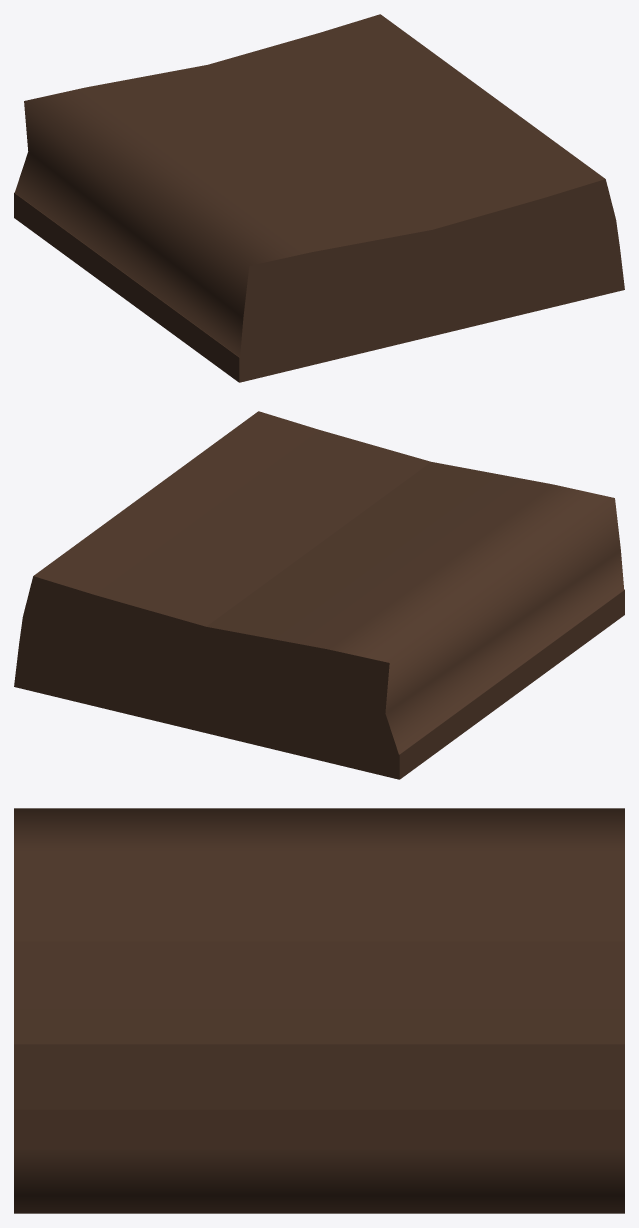
File: intro_prop(floor_mountain)_01.FBX
The picture shows the model from 3 angles, top to bottom: view 1: azimuth 30°, elevation 25°; view 2: azimuth 150°, elevation 25°; view 3: azimuth 270°, elevation 25°; orthographic projection. The views are drawn at different scales.
Parts seen in each view (by area): view 1: floor_mountain001; view 2: floor_mountain001; view 3: floor_mountain001.
Boxes of the visible parts, x1=… form: floor_mountain001: x1=14, y1=14, x2=624, y2=382; floor_mountain001: x1=14, y1=411, x2=624, y2=779; floor_mountain001: x1=14, y1=808, x2=624, y2=1213.
Size of what is drawn, in the model's own units: 172 by 49.25 by 174.
